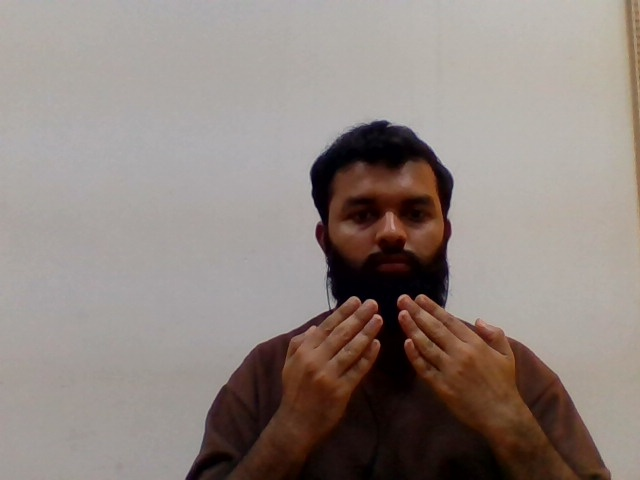Thank You: (227, 127, 566, 439)
